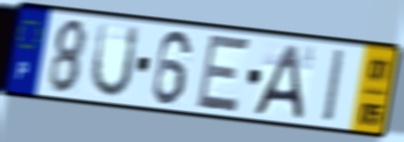6: (150, 28, 195, 108)
8: (47, 17, 90, 96)
A: (250, 42, 305, 122)
E: (193, 32, 254, 115)
I: (321, 46, 348, 126)
U: (88, 20, 142, 100)
